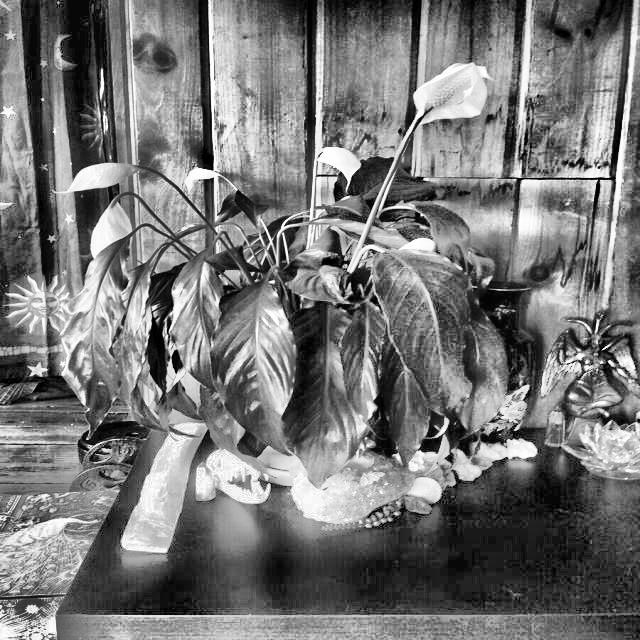plants: (54, 156, 527, 524)
